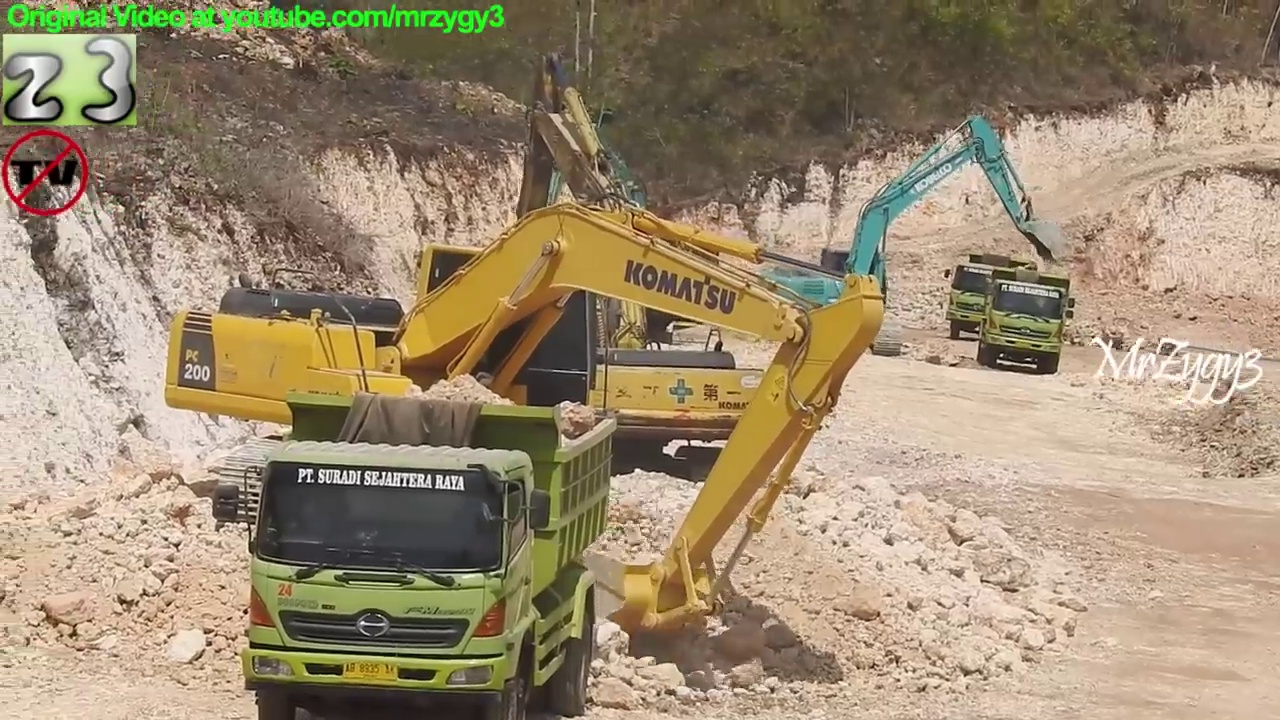excavator: (157, 196, 892, 665), (420, 48, 813, 495), (753, 110, 1078, 365), (498, 103, 755, 381)
truck: (206, 388, 622, 720), (972, 261, 1082, 376), (941, 248, 1041, 345)
